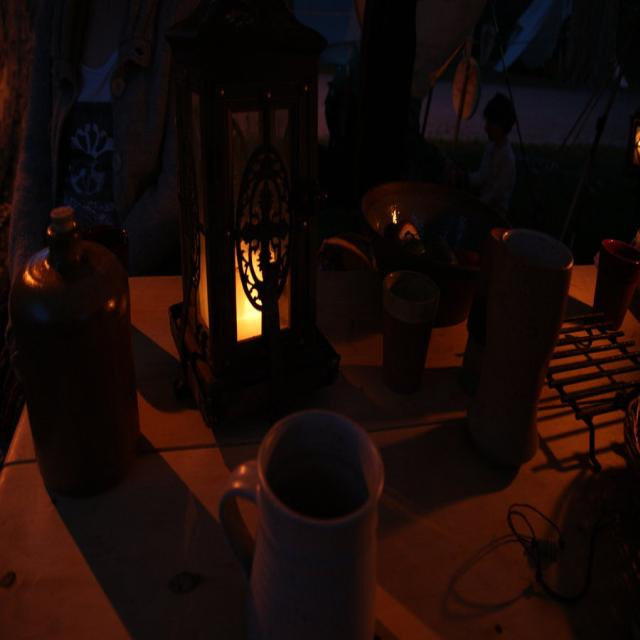Bottle: (1, 189, 144, 477)
Cup: (235, 403, 392, 640), (485, 221, 573, 454), (383, 258, 449, 376), (602, 222, 640, 324)
People: (485, 75, 529, 216)
Table: (10, 228, 640, 640)
